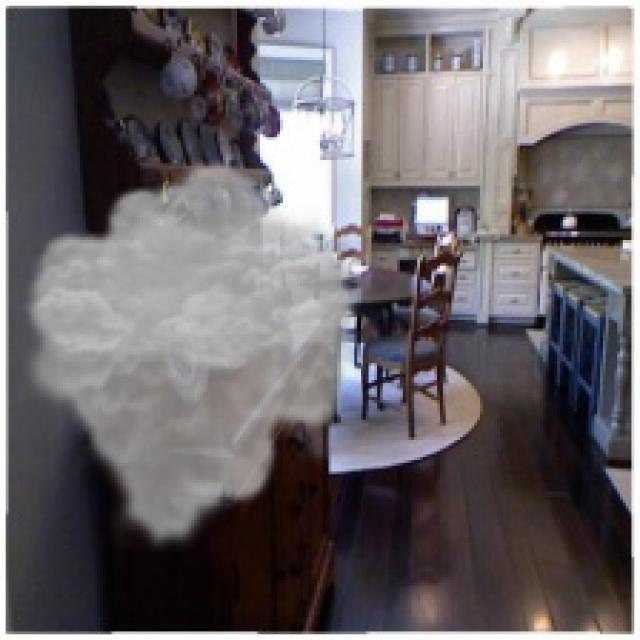smoke: (17, 157, 366, 552)
